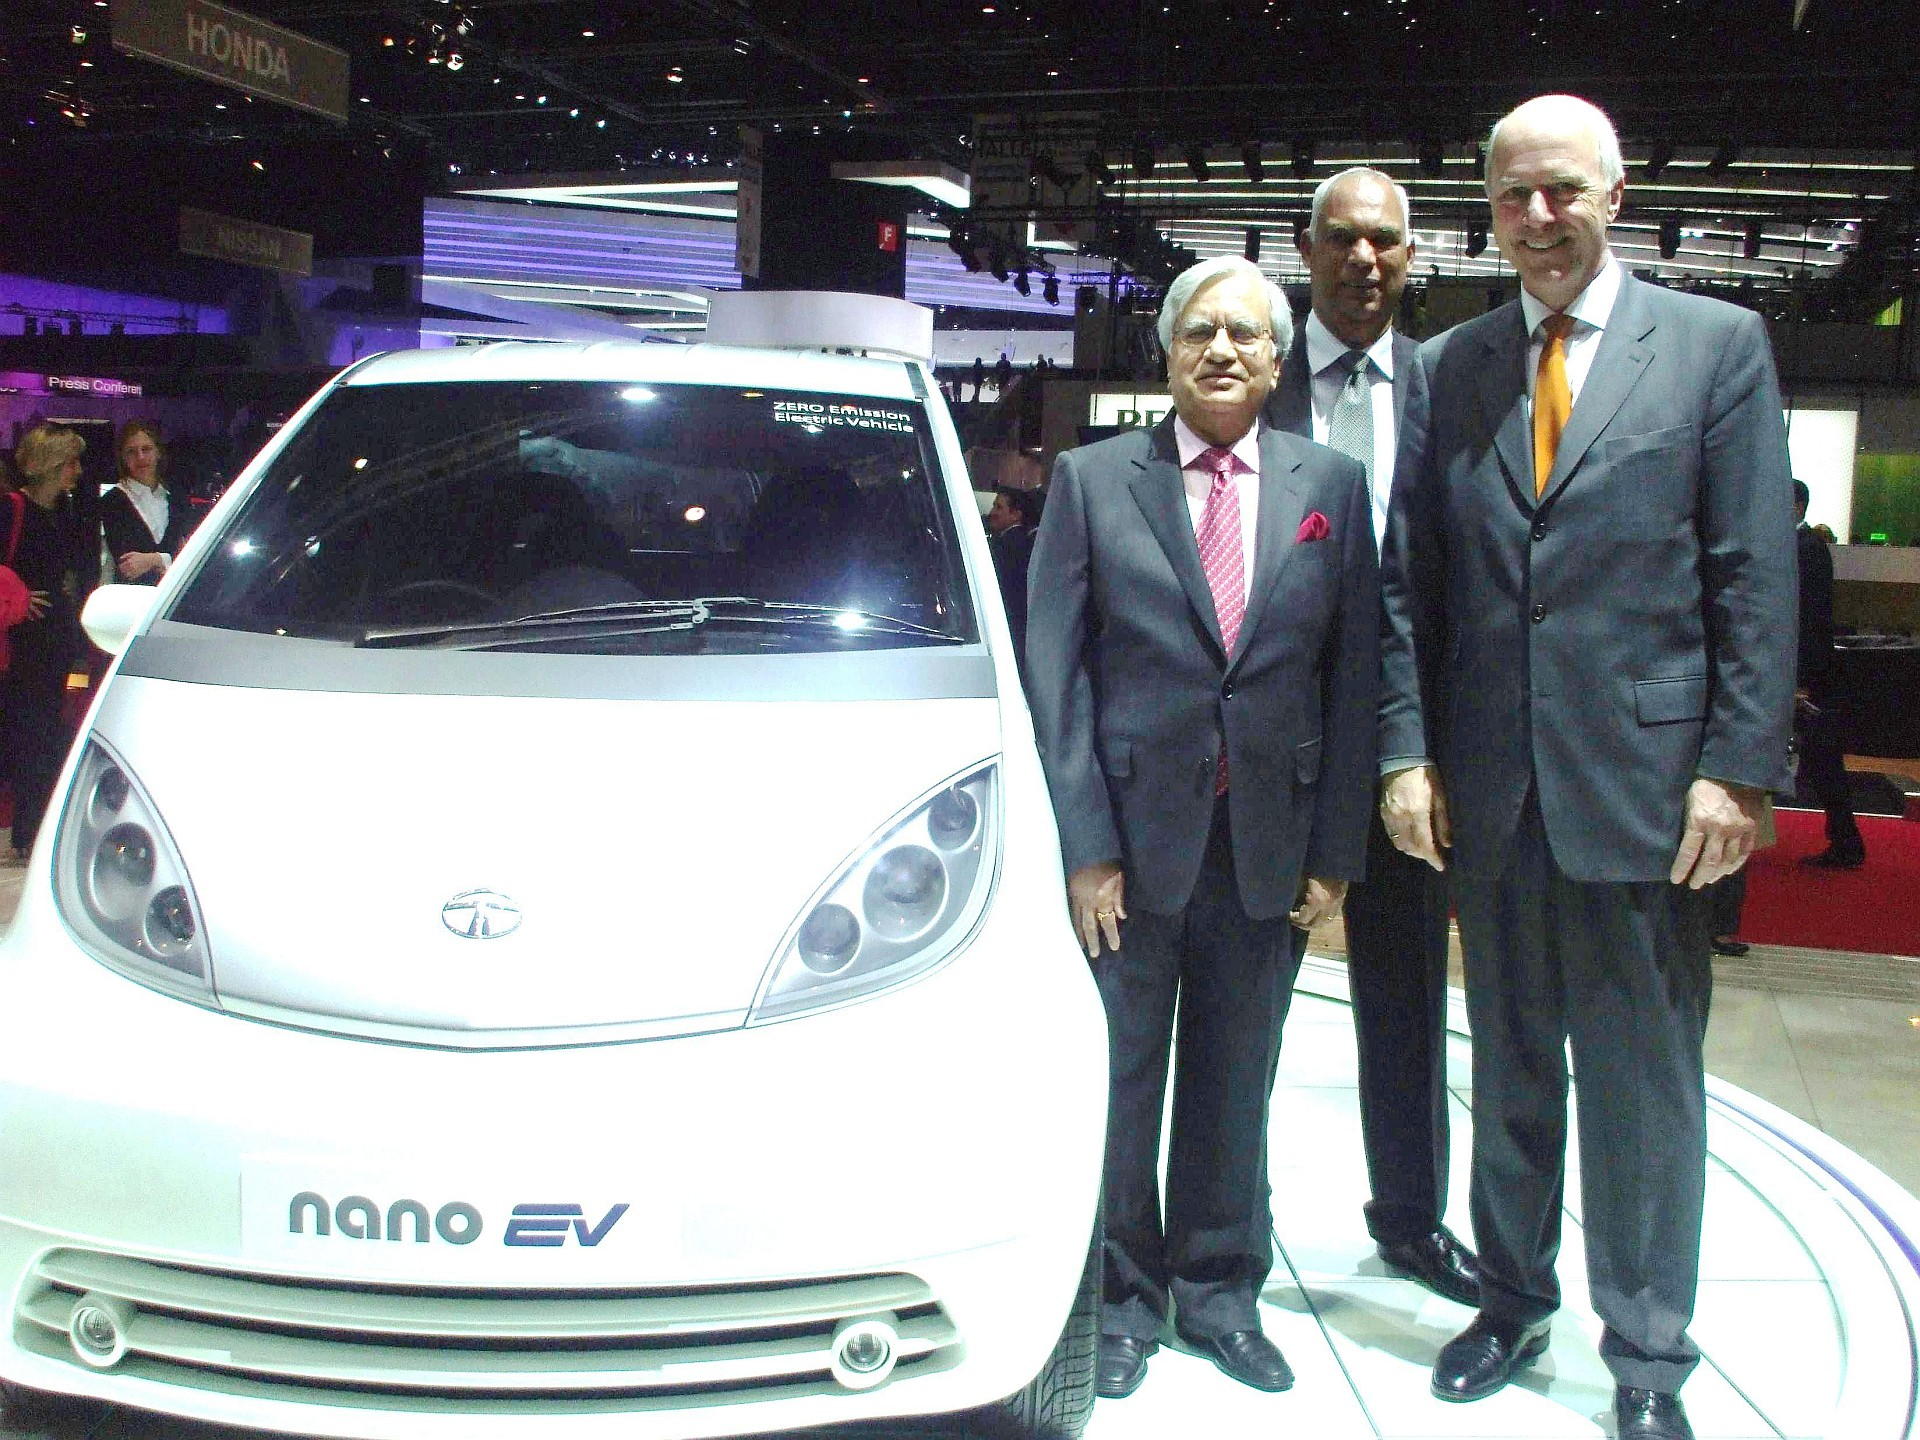Nano: (11, 339, 1117, 1440)
